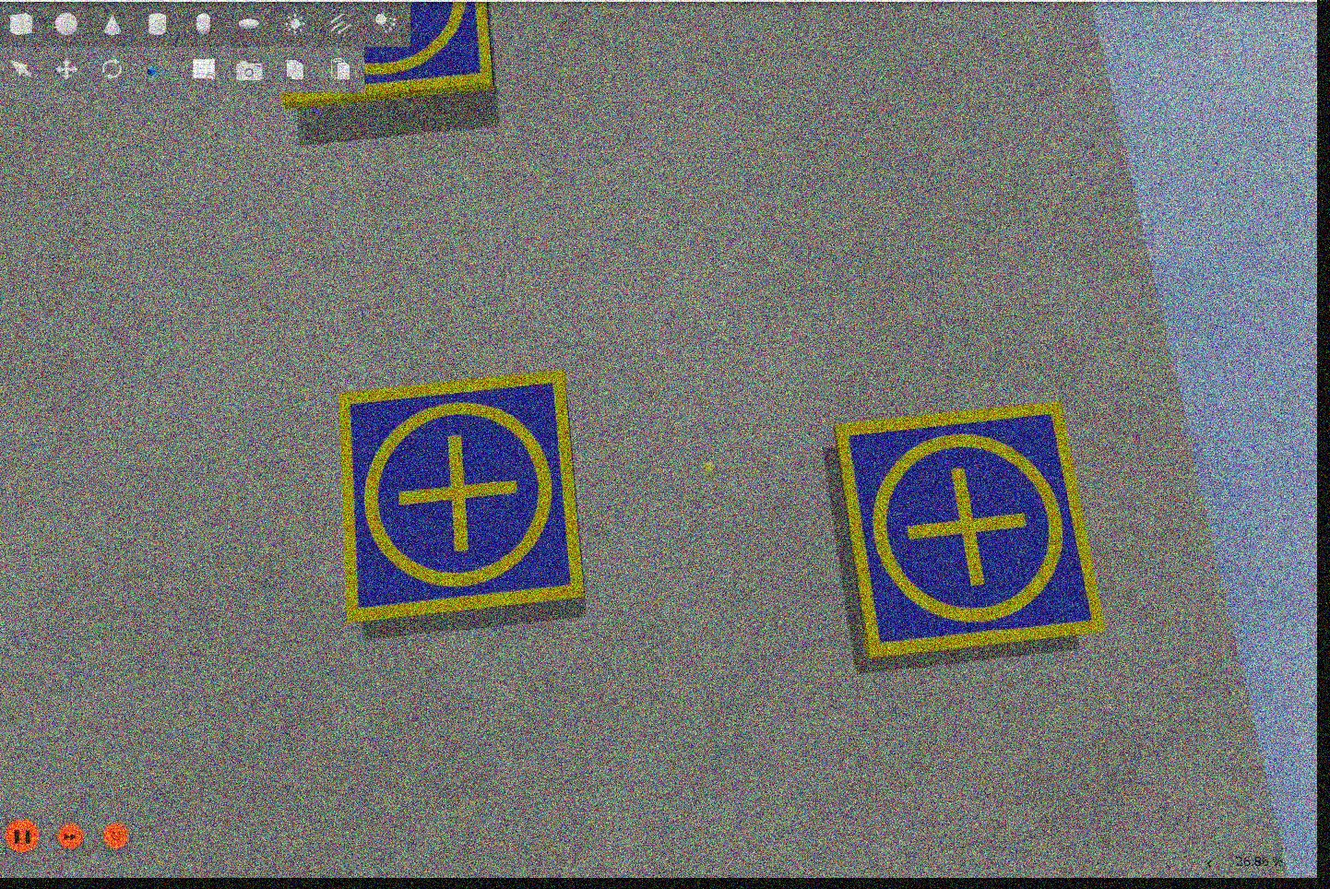small_base: (831, 406, 1109, 663), (333, 369, 588, 628), (366, 4, 505, 100)
